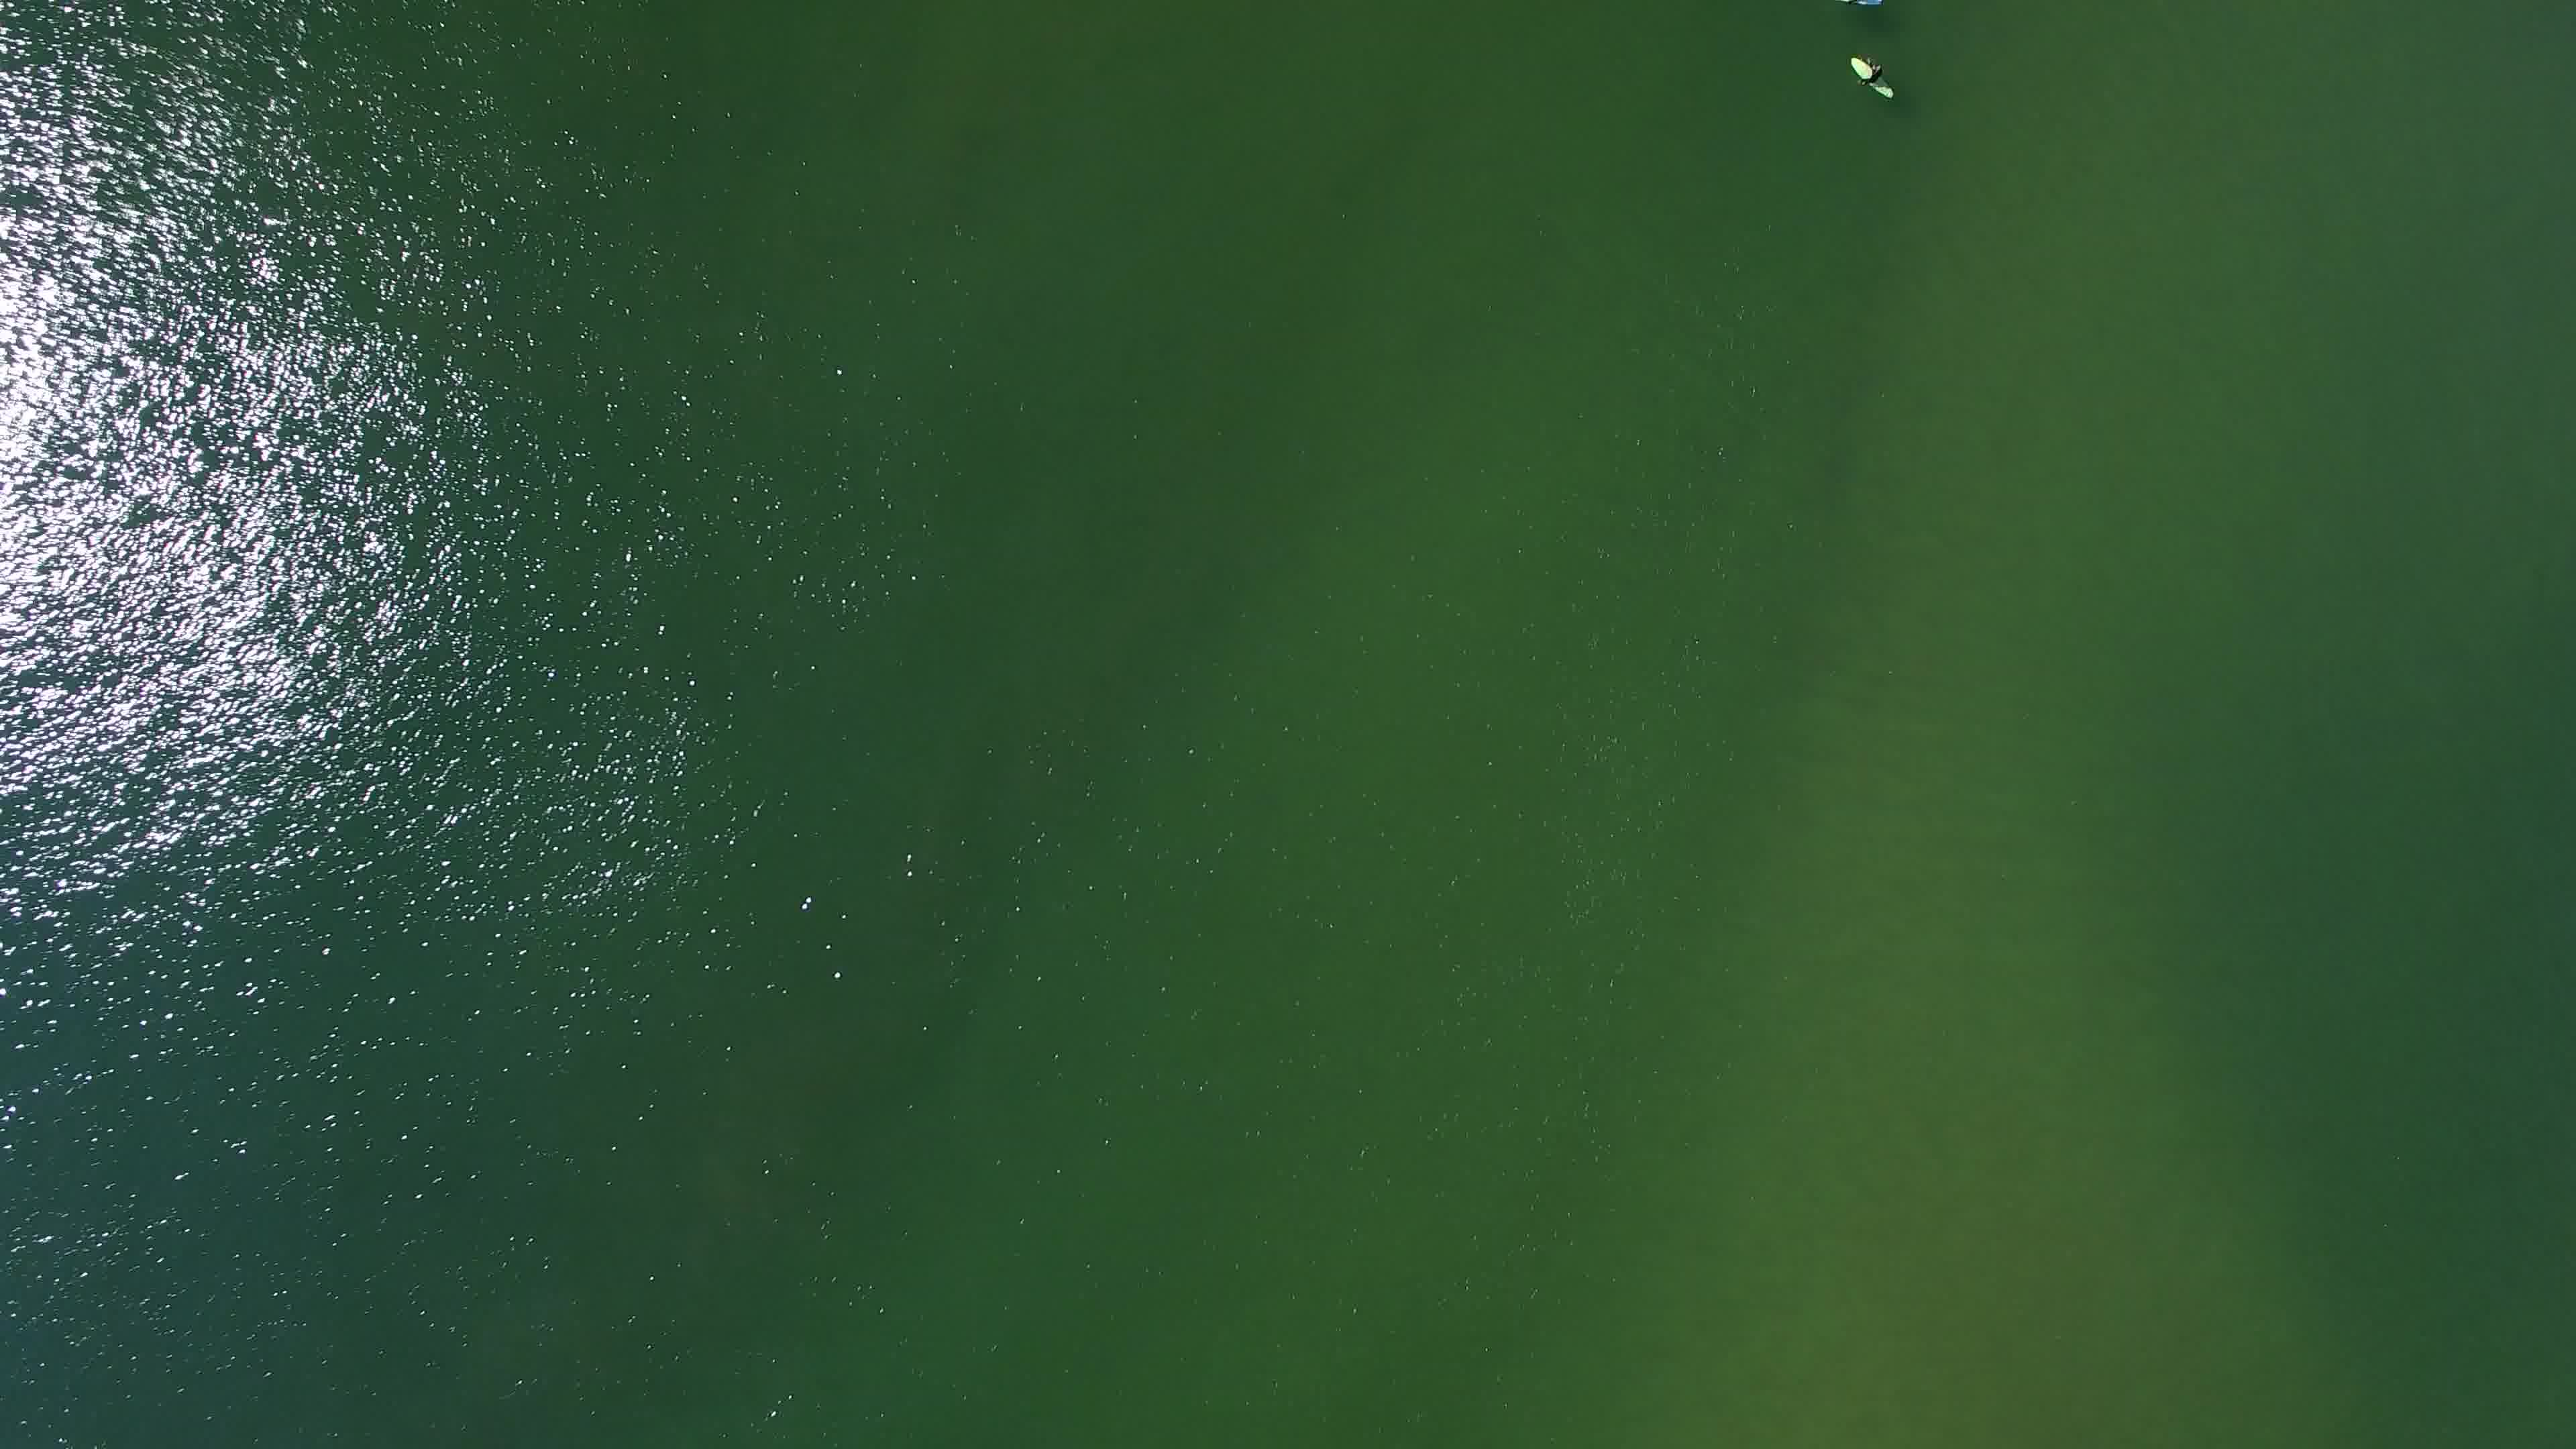surfer: (1844, 51, 1904, 106)
